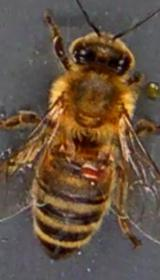varroa_mite: (72, 156, 112, 188)
